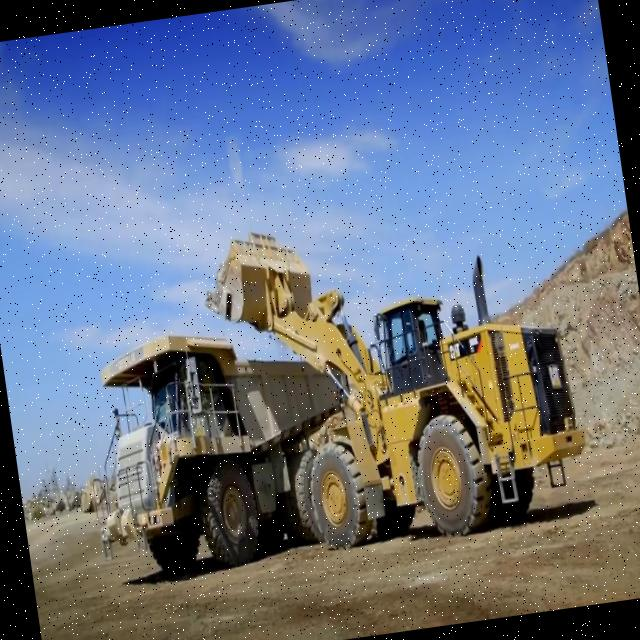Dump Truck: (69, 305, 366, 582)
Loader: (192, 180, 604, 580)
